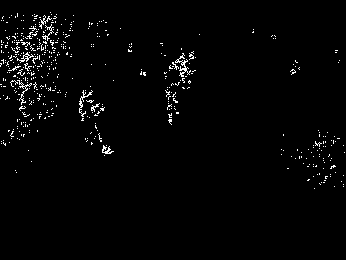person: (78, 87, 112, 154), (163, 63, 180, 123)
